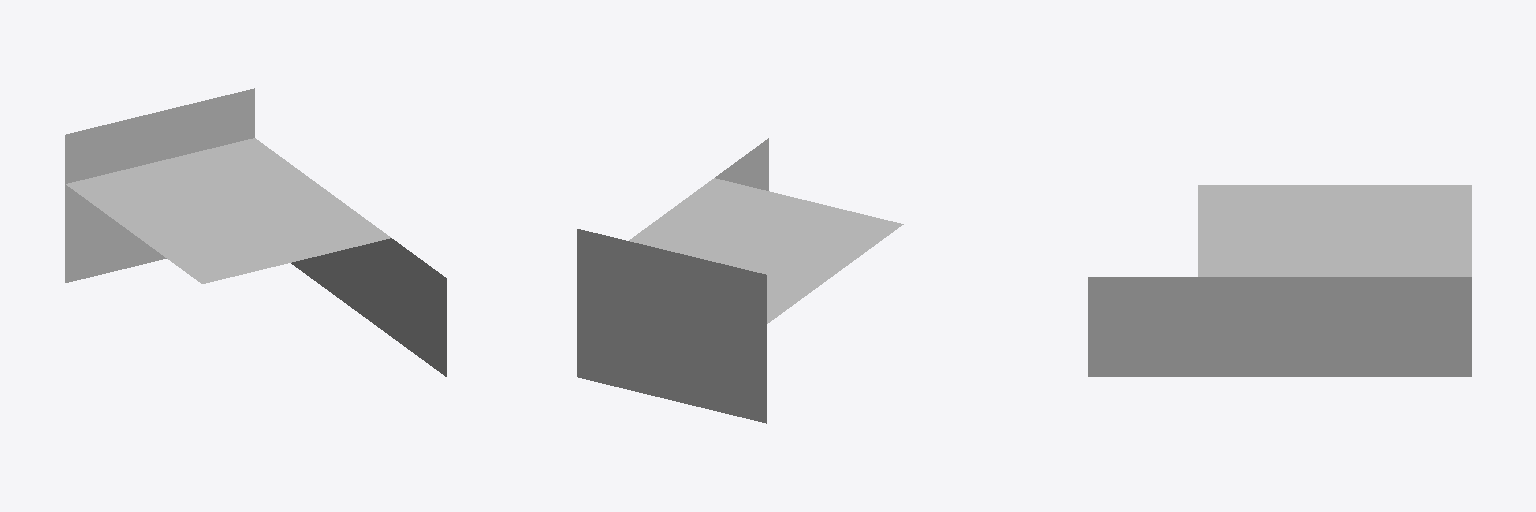
File: lvl_StairwayPt2.obj
3 views of the same model, side by side, from view 1: azimuth 30°, elevation 25°; view 2: azimuth 150°, elevation 25°; view 3: azimuth 270°, elevation 25° (orthographic).
Visible parts, largest first — view 1: Default; view 2: Default; view 3: Default.
Part boxes in pixels (x1,y1,x2,y2): Default: (65, 88, 446, 376); Default: (577, 138, 903, 423); Default: (1088, 185, 1471, 376).
Size of the model in its own units: 4 by 3 by 7.